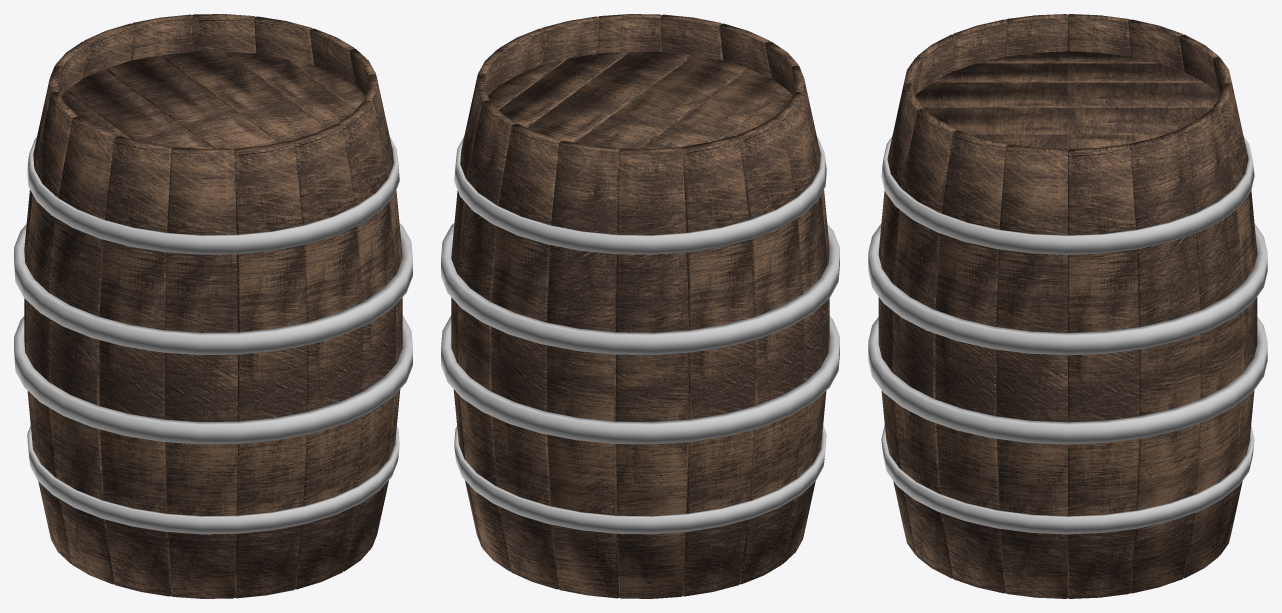
Rendered from Wings3D_Barrel.obj.
3 views of the same model, side by side, from view 1: azimuth 30°, elevation 25°; view 2: azimuth 150°, elevation 25°; view 3: azimuth 270°, elevation 25° (orthographic).
Parts seen in each view (by area): view 1: BarrelBody.010, BarrelBody.009, BarrelBody.011, BarrelBody.008, BarrelBody.012, BarrelBody.007, BarrelHoop.002, BarrelHoop.003, BarrelBody.013, BarrelHoop.001, BarrelHoop.004, BarrelLidTop.004 (+14 smaller); view 2: BarrelBody.016, BarrelBody.017, BarrelBody.014, BarrelBody.001, BarrelBody.013, BarrelBody.002, BarrelHoop.002, BarrelHoop.003, BarrelBody.012, BarrelHoop.001, BarrelHoop.004, BarrelLidTop.004 (+14 smaller); view 3: BarrelBody.005, BarrelBody.004, BarrelBody.006, BarrelBody.003, BarrelBody.007, BarrelBody.002, BarrelHoop.002, BarrelHoop.003, BarrelHoop.001, BarrelLidTop.003, BarrelHoop.004, BarrelLidTop.004 (+11 smaller).
Part boxes in pixels (<box>): BarrelBody.010: <box>165,147,237,598</box>; BarrelBody.009: <box>234,140,307,598</box>; BarrelBody.011: <box>99,136,172,596</box>; BarrelBody.008: <box>292,123,362,589</box>; BarrelBody.012: <box>50,116,117,584</box>; BarrelBody.007: <box>338,100,395,571</box>; BarrelHoop.002: <box>14,223,412,355</box>; BarrelHoop.003: <box>14,315,412,444</box>; BarrelBody.013: <box>26,92,77,563</box>; BarrelHoop.001: <box>27,136,399,254</box>; BarrelHoop.004: <box>27,425,399,534</box>; BarrelLidTop.004: <box>105,55,278,148</box>; BarrelBody.016: <box>616,147,688,598</box>; BarrelBody.017: <box>546,140,619,598</box>; BarrelBody.014: <box>681,136,754,596</box>; BarrelBody.001: <box>491,123,561,589</box>; BarrelBody.013: <box>736,116,803,584</box>; BarrelBody.002: <box>458,100,515,571</box>; BarrelHoop.002: <box>441,223,839,355</box>; BarrelHoop.003: <box>441,315,839,444</box>; BarrelBody.012: <box>776,92,827,563</box>; BarrelHoop.001: <box>454,136,826,254</box>; BarrelHoop.004: <box>454,425,826,534</box>; BarrelLidTop.004: <box>575,55,748,148</box>; BarrelBody.005: <box>996,144,1067,598</box>; BarrelBody.004: <box>1068,144,1139,598</box>; BarrelBody.006: <box>935,130,1007,593</box>; BarrelBody.003: <box>1128,130,1200,593</box>; BarrelBody.007: <box>893,109,956,578</box>; BarrelBody.002: <box>1179,109,1242,578</box>; BarrelHoop.002: <box>868,224,1267,355</box>; BarrelHoop.003: <box>868,317,1267,444</box>; BarrelHoop.001: <box>881,136,1254,254</box>; BarrelLidTop.003: <box>915,82,1220,107</box>; BarrelHoop.004: <box>881,425,1254,534</box>; BarrelLidTop.004: <box>923,107,1212,134</box>.
Size of the model in its own units: 2.43 by 3 by 2.43.
